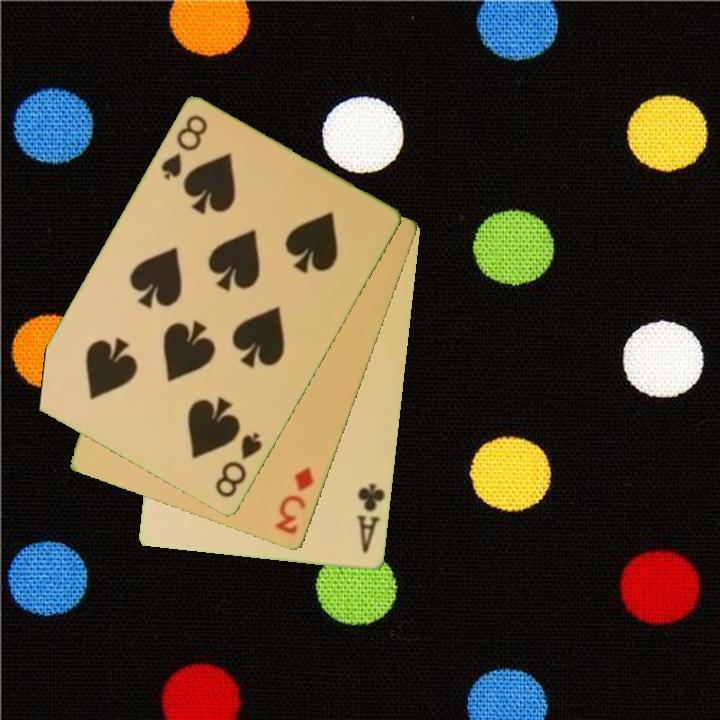3d: (272, 463, 318, 538)
8s: (211, 429, 266, 502), (157, 111, 211, 183)
Ac: (354, 481, 388, 557)
